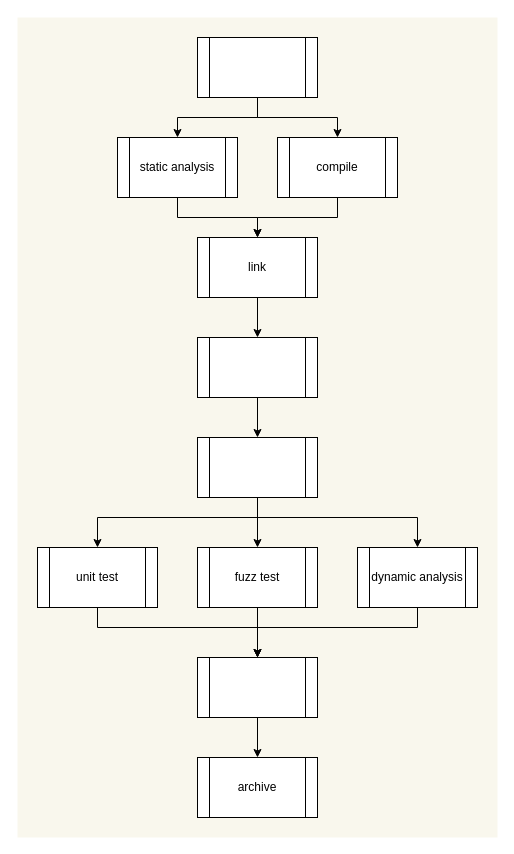
The diagram is 514 pixels wide and 854 high, and some of its shapes have lost their labels. The shapes that lost their labels are listed below. From the top down, each one's box as (x1, y1, x2, y2) in pixels, then its label:
(196, 36, 318, 98): source scan
(196, 336, 318, 398): virus scan
(196, 436, 318, 498): sign object
(196, 656, 318, 718): simulate
